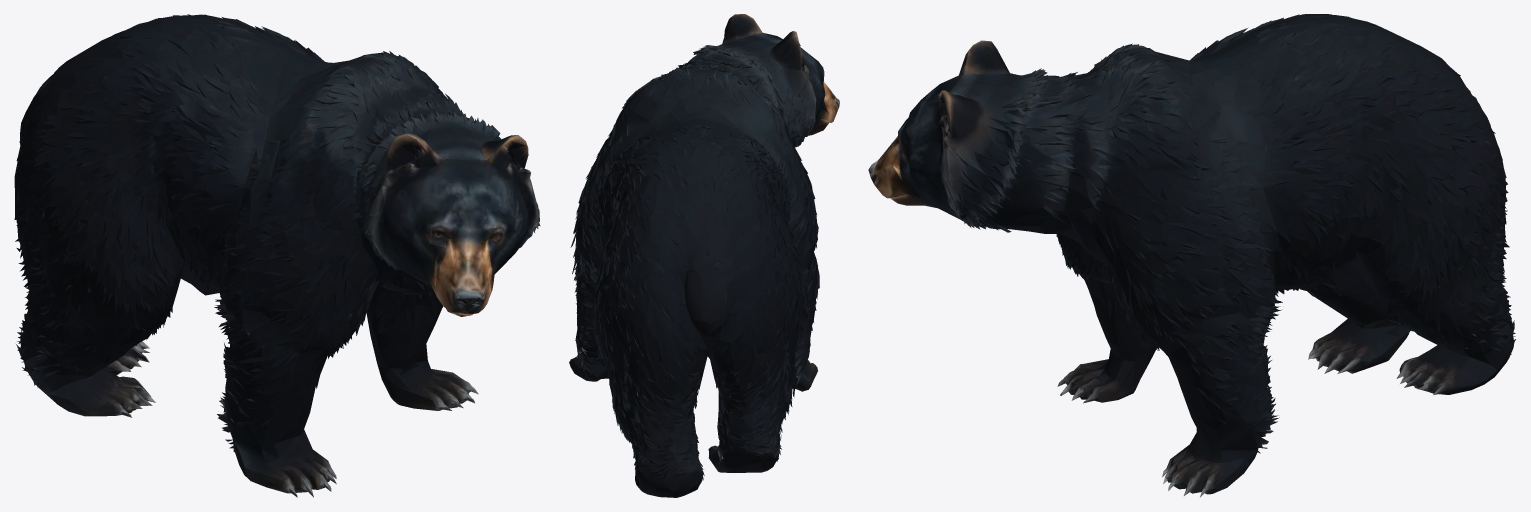
File: american-black-bear.glb
3 renders of one model, left to right at view 1: azimuth 30°, elevation 25°; view 2: azimuth 150°, elevation 25°; view 3: azimuth 270°, elevation 25°, orthographic. The views are drawn at different scales.
Size of the model in its own units: 1.21 by 1.23 by 1.9.
1 material, 1 textured.
